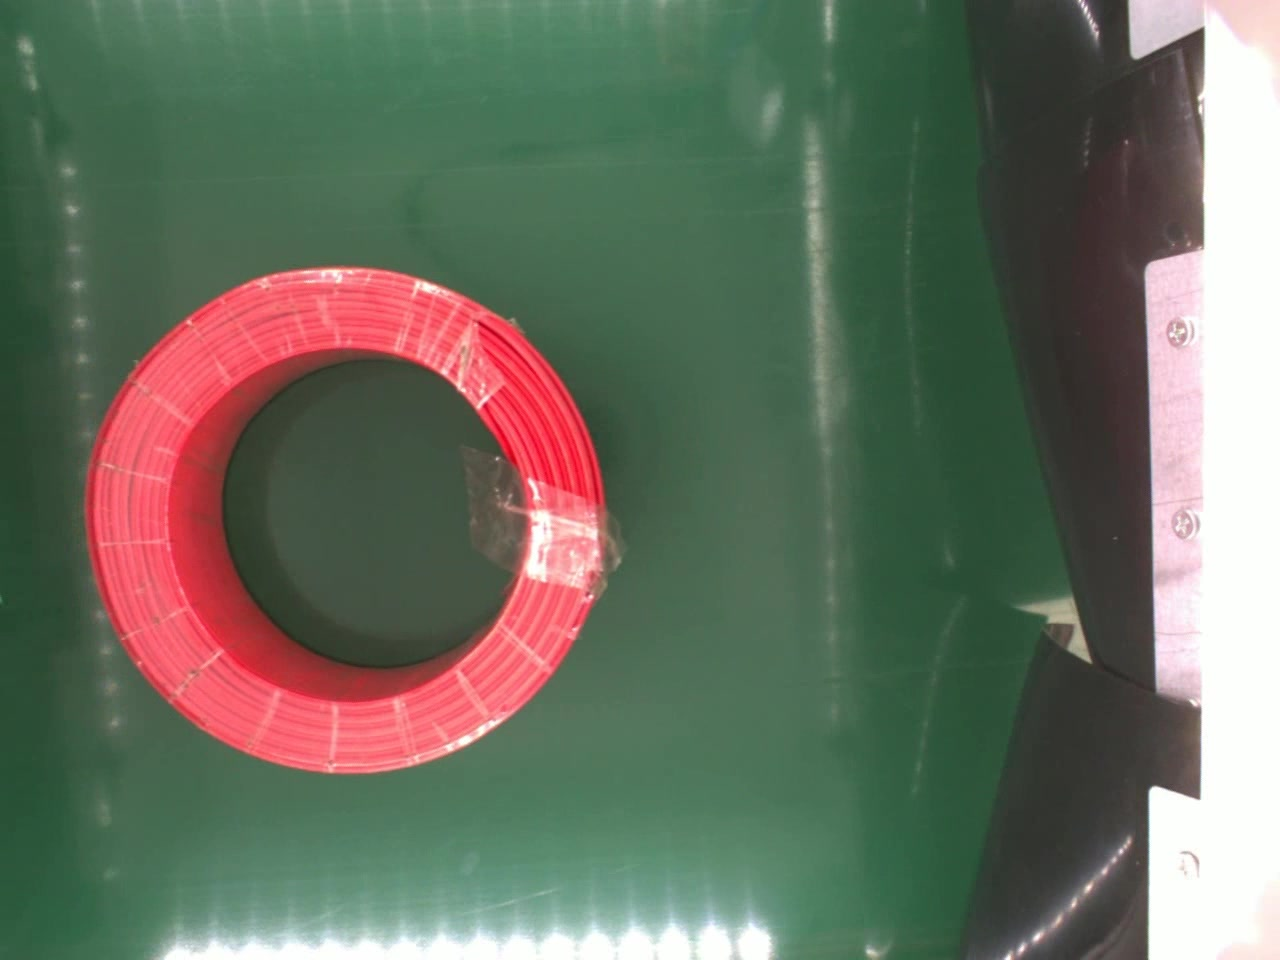red: (85, 257, 615, 781)
